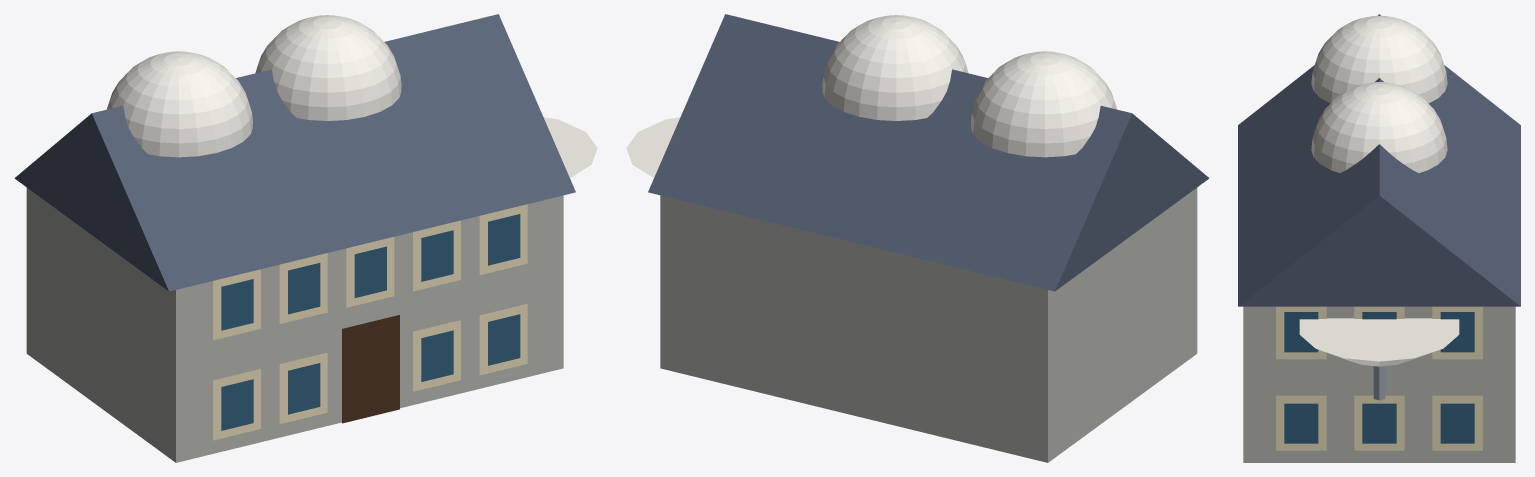
Rendered from building_research_lab.fbx.
3 views of the same model, side by side, from view 1: azimuth 30°, elevation 25°; view 2: azimuth 150°, elevation 25°; view 3: azimuth 270°, elevation 25° (orthographic). The views are drawn at different scales.
Parts seen in each view (by area): view 1: building_research_lab; view 2: building_research_lab; view 3: building_research_lab.
Boxes of the visible parts, box(x1,y1,x2,y2) form: building_research_lab: box(14, 14, 597, 462); building_research_lab: box(626, 14, 1209, 462); building_research_lab: box(1238, 14, 1520, 462).
Size of the model in its own units: 76.5 by 49 by 41.5.
